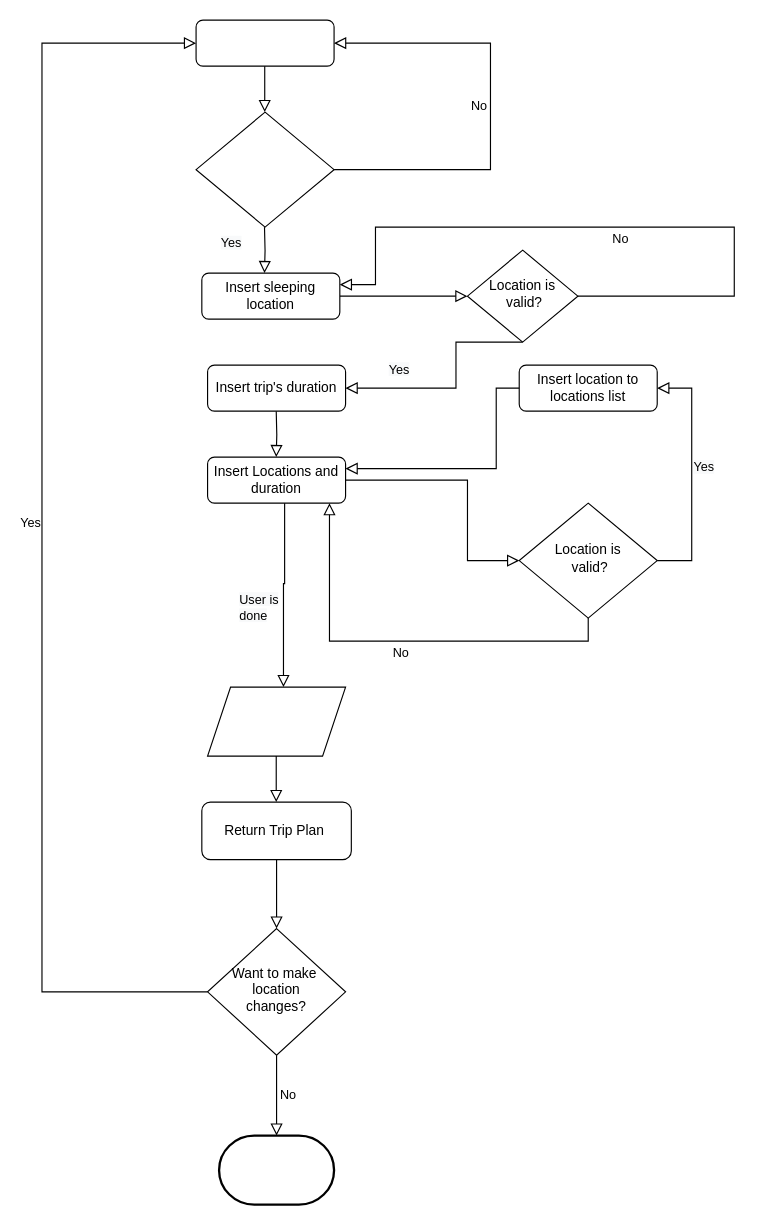
This 766x1226 diagram has some shape labels left out. The shapes that lost their labels are listed below. From the top down, each one's centre as x and y in pixels, then its label:
(x=264, y=42): Insert Country
(x=264, y=169): Country Valid?
(x=276, y=721): Solver
(x=276, y=1169): Plan Delivered
